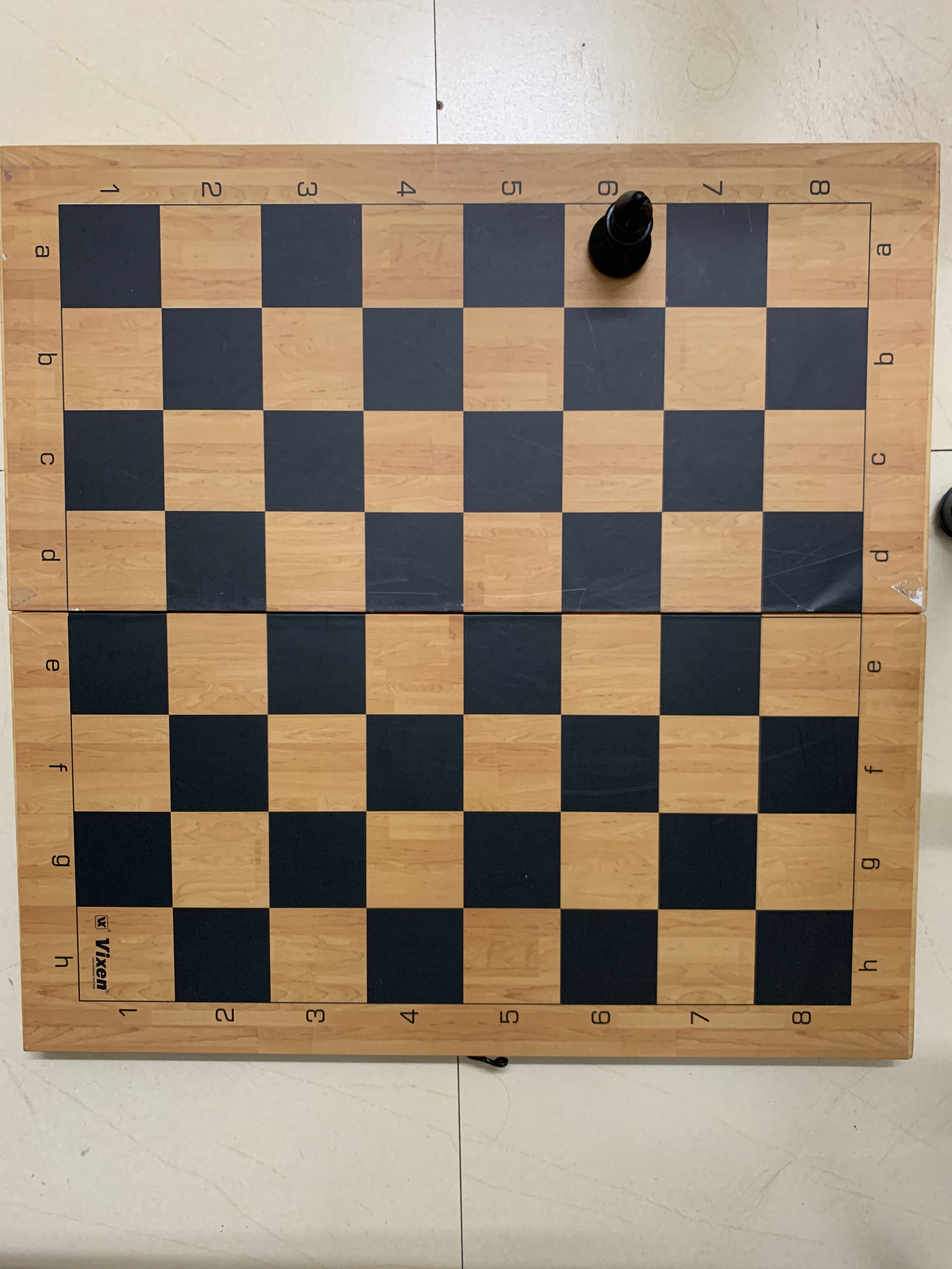black_bishop: (570, 191, 659, 299)
